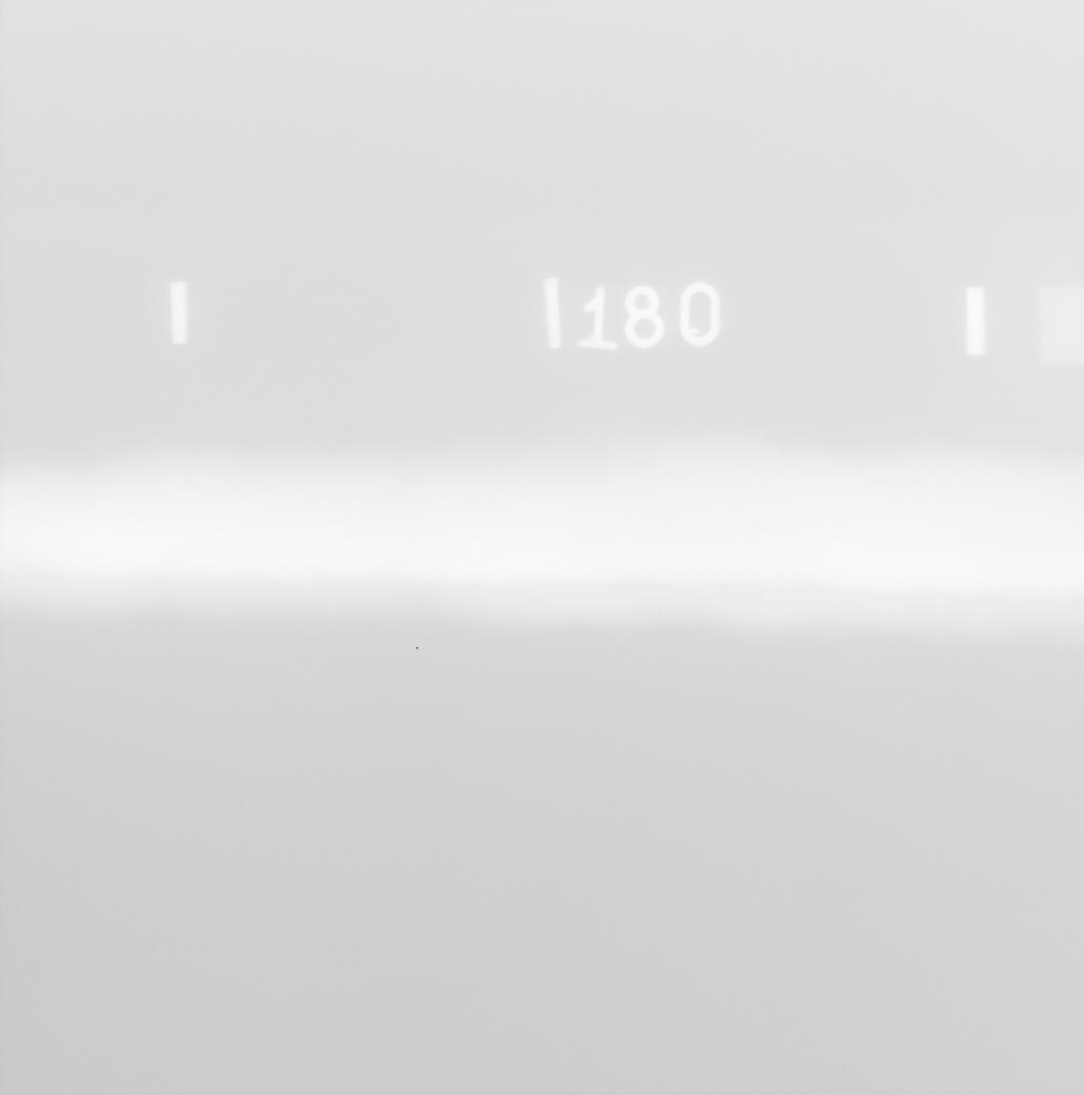Pore/Porosity: (380, 543, 384, 548)
